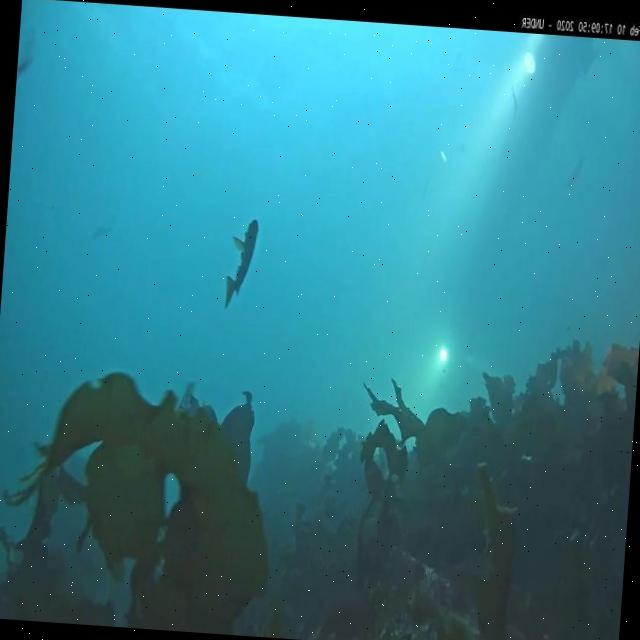fish: (222, 216, 258, 312)
